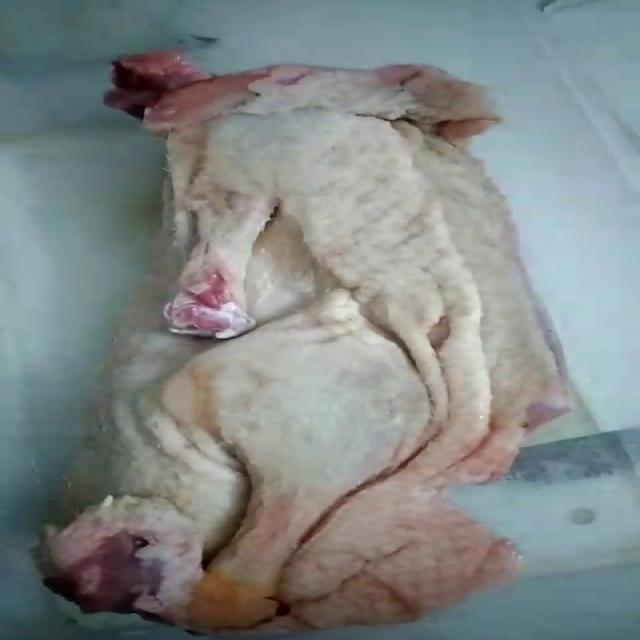chicken: (0, 54, 567, 639)
